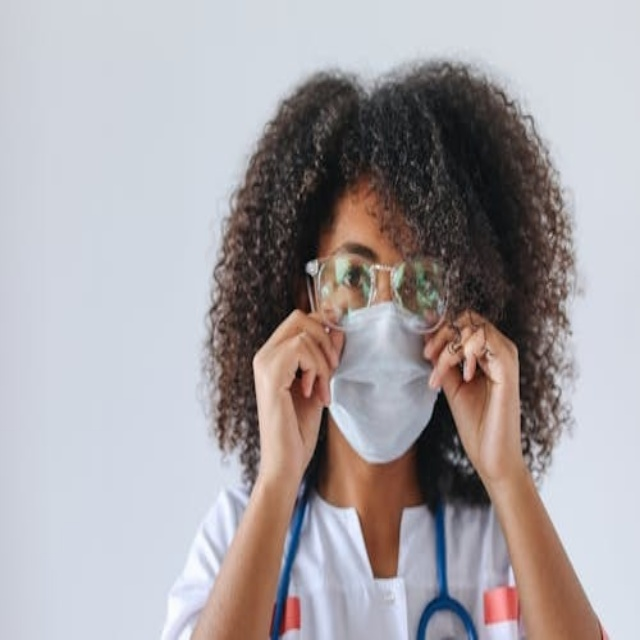Gafas: (305, 253, 453, 333)
Mascara: (323, 297, 445, 465)
Sin_guantes: (421, 300, 534, 509), (242, 288, 352, 496)
